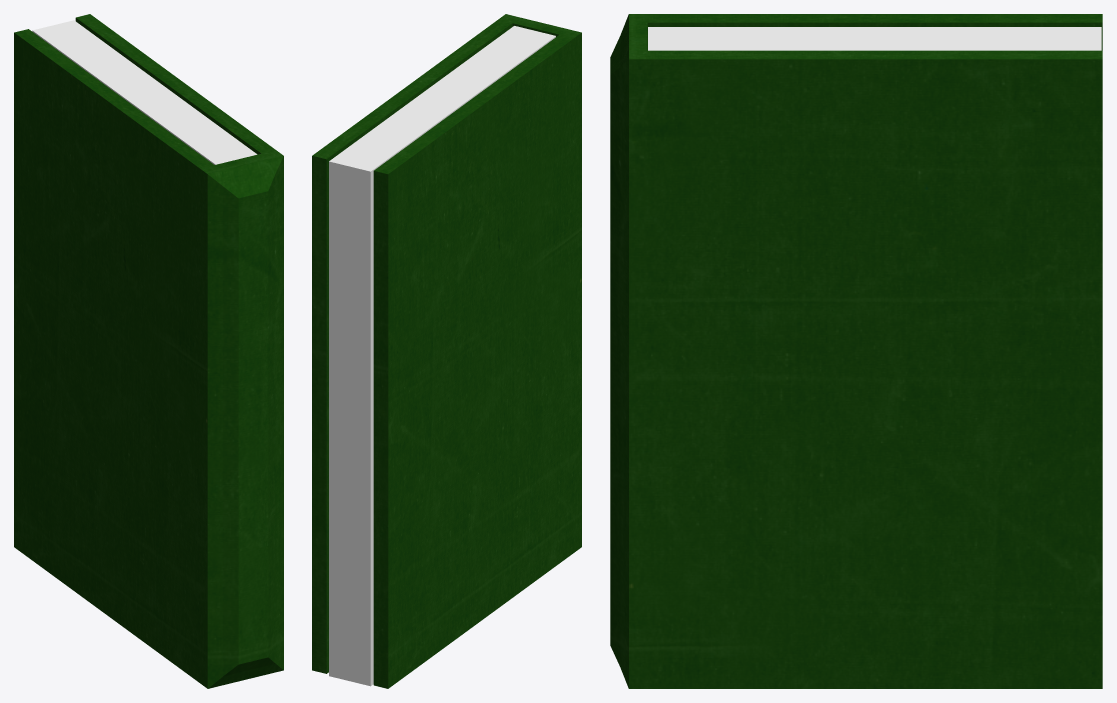
File: book 1.fbx
The picture shows the model from 3 angles, left to right: view 1: azimuth 30°, elevation 25°; view 2: azimuth 150°, elevation 25°; view 3: azimuth 270°, elevation 25°; orthographic projection. The views are drawn at different scales.
Visible parts, largest first — view 1: Book cover019, paper bit of book019; view 2: Book cover019, paper bit of book019; view 3: Book cover019, paper bit of book019.
Boxes of the visible parts, <box> form: Book cover019: <box>14,14,283,688</box>; paper bit of book019: <box>32,20,257,164</box>; Book cover019: <box>312,14,581,688</box>; paper bit of book019: <box>329,26,555,686</box>; Book cover019: <box>610,14,1102,688</box>; paper bit of book019: <box>648,27,1101,50</box>.
Bounding box in the file's own units: 4.04 × 26.24 × 18.52.
2 materials, 1 textured.
